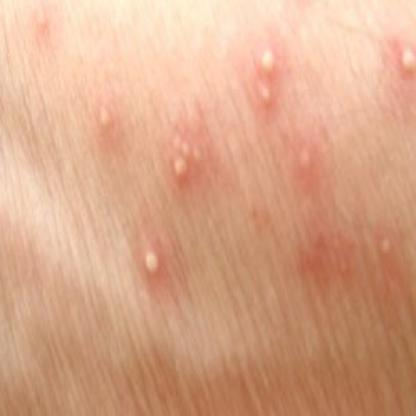Fire ant: (168, 124, 204, 183), (312, 225, 347, 276), (255, 36, 279, 104), (139, 240, 162, 276), (395, 37, 415, 76), (295, 142, 315, 173), (32, 13, 51, 42), (374, 227, 392, 256), (94, 102, 111, 132)
